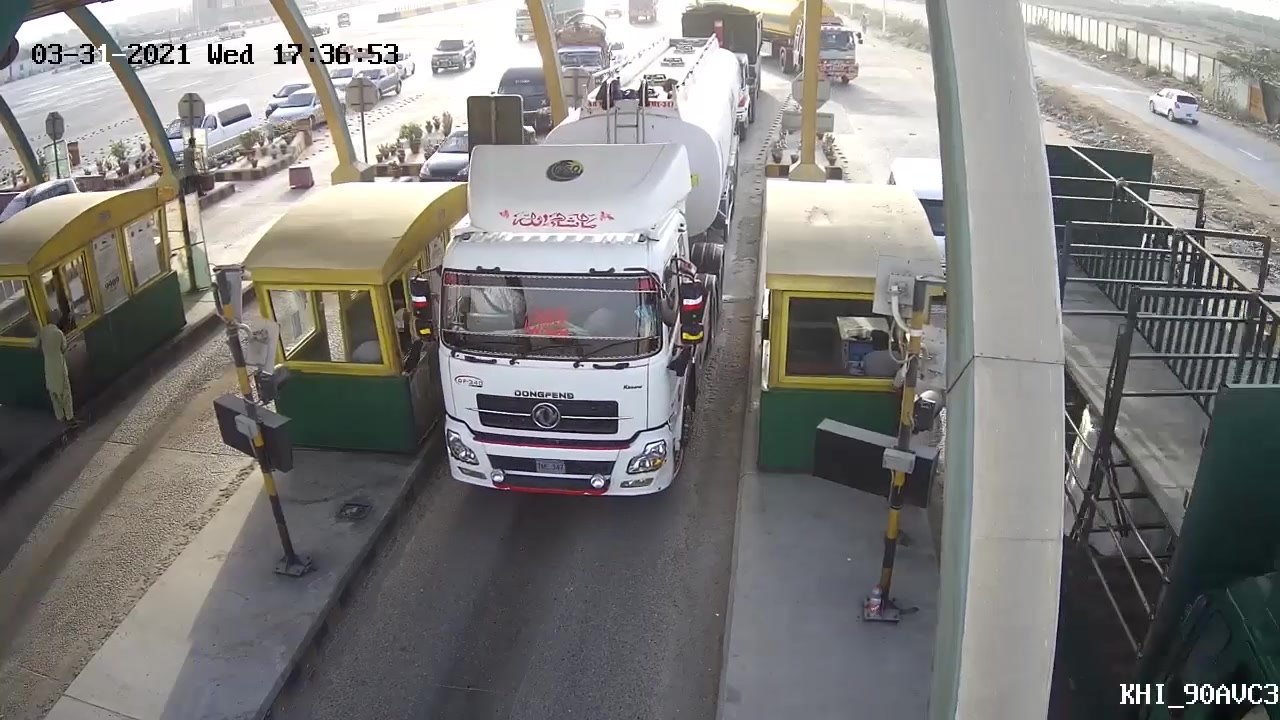F6: (432, 31, 756, 512)
